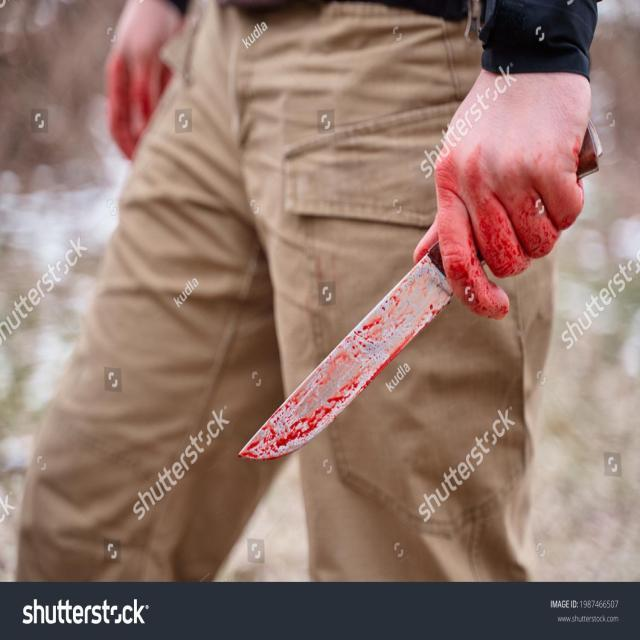flood: (238, 275, 424, 468), (422, 143, 560, 316)
